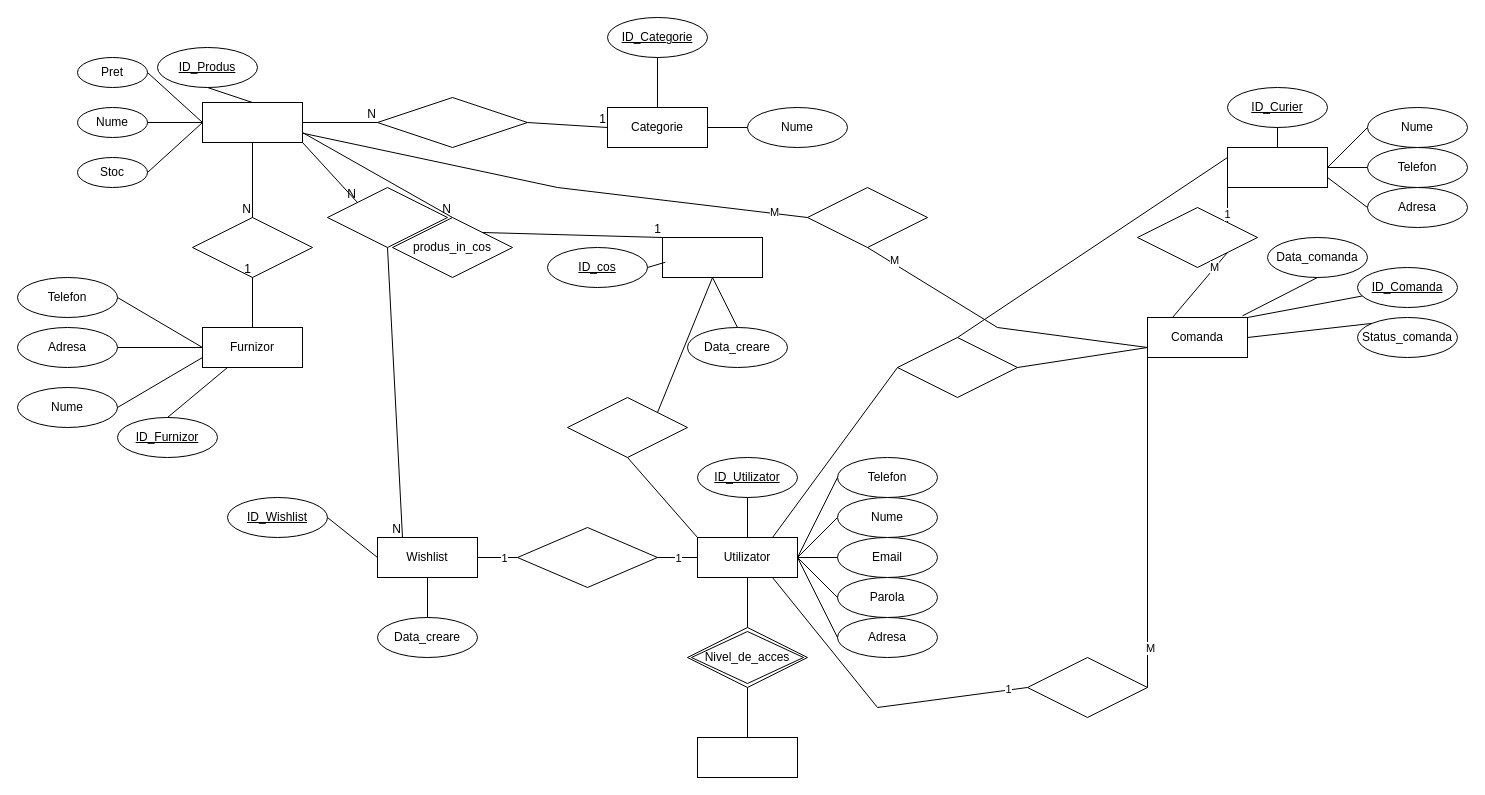
This 1485x795 diagram has some shape labels left out. Each missing label, with the centre of its shape:
Administrator: point 747,757
comanda_efectuata: point 957,367
comanda_facuta_de: point 1087,687
comanda_livrata_de: point 1197,237
Cos_cumparaturi: point 712,257
Curier: point 1277,167
Produs: point 252,122
produs_comandat: point 867,217
produs_din_categoria: point 452,122
produs_din_wishlist: point 387,217
produs_furnizat: point 252,247
utilizator_wishlist: point 587,557
utilizatorul_are_cos: point 627,427
